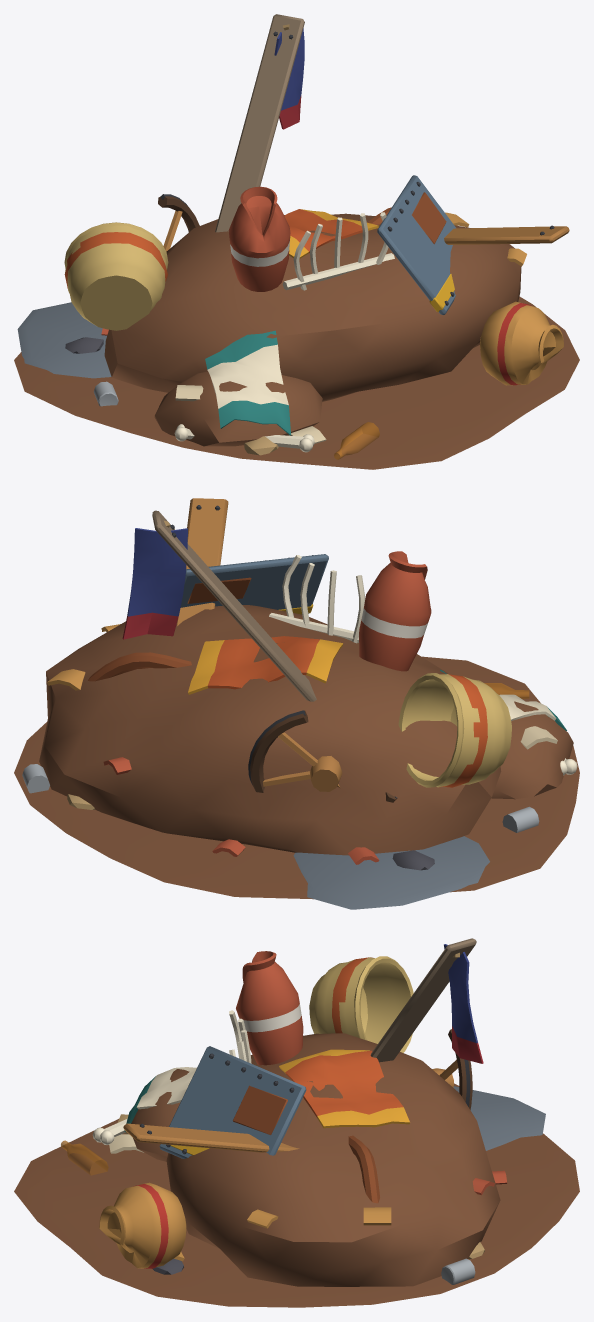
File: deco_refuse_heap.fbx
3 renders of one model, top to bottom at view 1: azimuth 30°, elevation 25°; view 2: azimuth 150°, elevation 25°; view 3: azimuth 270°, elevation 25°, orthographic. The views are drawn at different scales.
Visible parts, largest first — view 1: RefuseHeap_Dirt, RefuseHeap_Junk, RefuseHeap_Rags; view 2: RefuseHeap_Dirt, RefuseHeap_Junk, RefuseHeap_Rags; view 3: RefuseHeap_Dirt, RefuseHeap_Junk, RefuseHeap_Rags.
Part boxes in pixels (left/top/right/bottom): RefuseHeap_Dirt: left=14, top=213, right=579, bottom=469; RefuseHeap_Junk: left=64, top=14, right=569, bottom=459; RefuseHeap_Rags: left=205, top=24, right=378, bottom=435; RefuseHeap_Dirt: left=14, top=605, right=579, bottom=909; RefuseHeap_Junk: left=22, top=498, right=577, bottom=864; RefuseHeap_Rags: left=122, top=520, right=566, bottom=730; RefuseHeap_Dirt: left=14, top=1033, right=579, bottom=1307; RefuseHeap_Junk: left=61, top=938, right=507, bottom=1284; RefuseHeap_Rags: left=124, top=944, right=483, bottom=1131.
Bounding box in the file's own units: 258 × 144 × 258.
